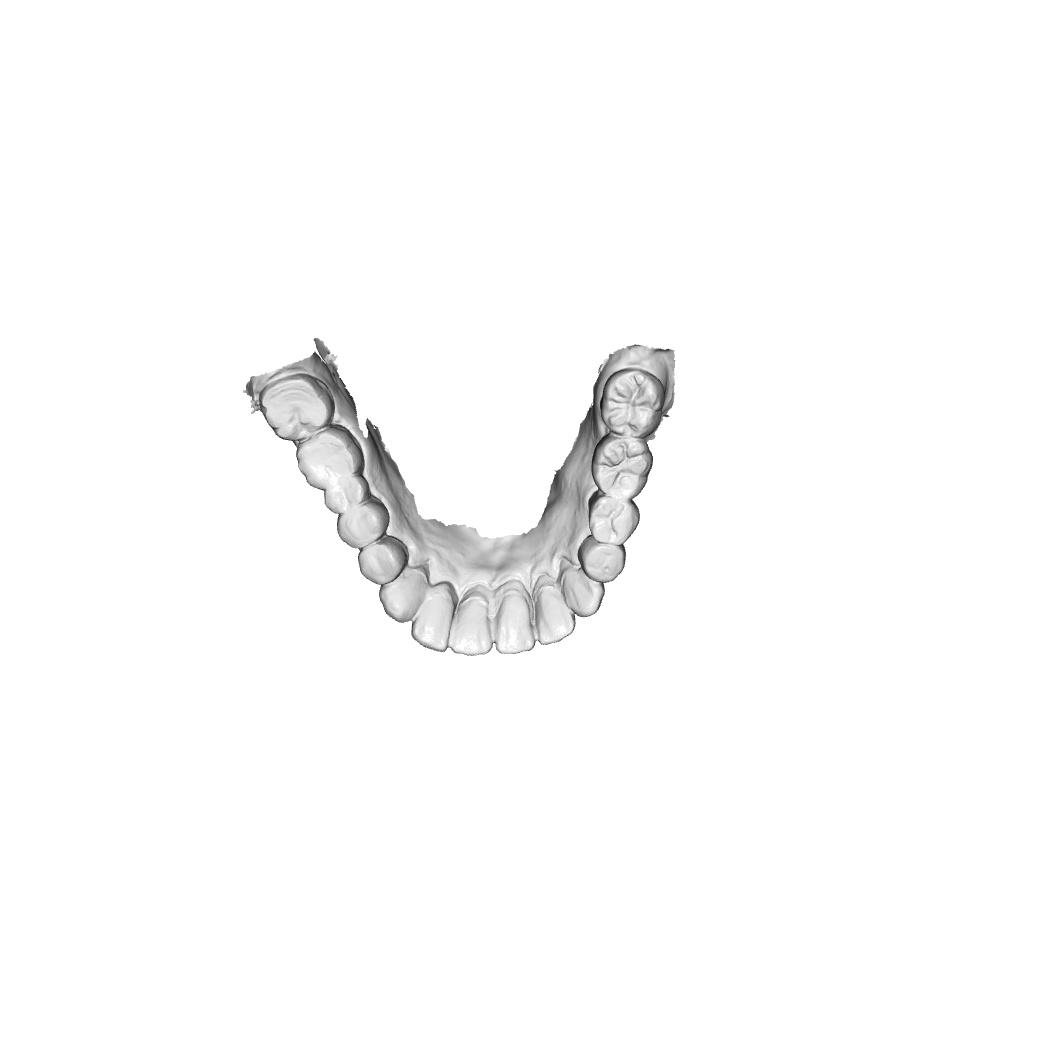canine: (377, 565, 430, 624), (561, 562, 606, 619)
incisor: (410, 581, 459, 653), (449, 585, 494, 657), (533, 575, 576, 645), (494, 587, 536, 655)
molar: (258, 373, 335, 443), (295, 424, 366, 491), (599, 368, 665, 439), (591, 431, 654, 501), (323, 474, 370, 514)
premolar: (336, 495, 391, 550), (588, 491, 641, 546), (357, 535, 410, 585), (577, 534, 626, 584)
